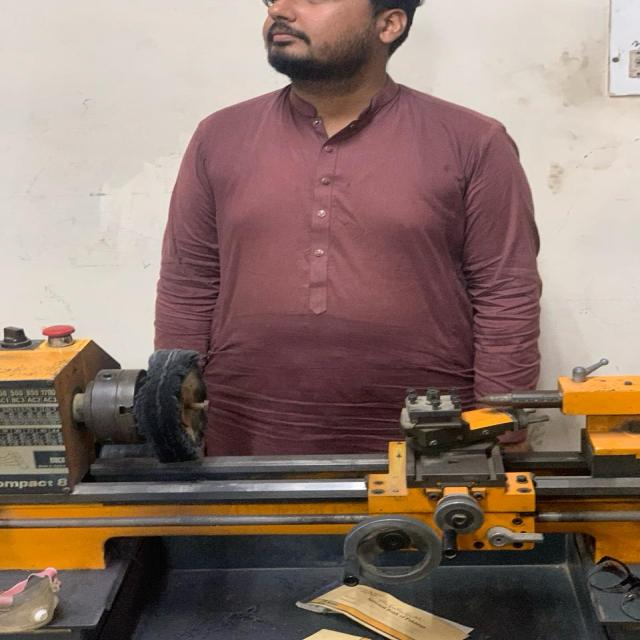dress: (150, 72, 546, 459)
